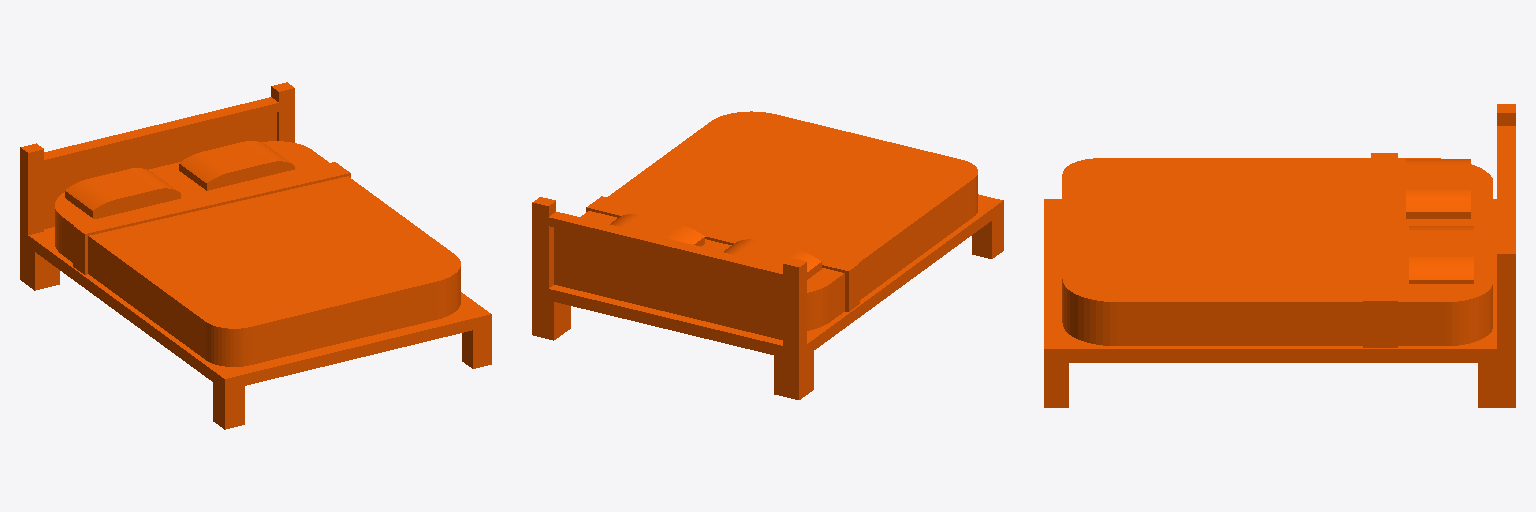
URDF robot description (QueenBed_37669b95ea1493e015db41c14447f):
<?xml version="1.0" ?>
<robot name="QueenBed_37669b95ea1493e015db41c14447f">
   <material name="obj_color">
      <color rgba="1.0 0.423529411765 0.0392156862745 1.0"/>
   </material>
   <link name="top">
      <inertial>
         <origin rpy="0.001823593337753178 0.002953681058438077 0.00426146181637602" xyz="-0.0001820774659071704 -0.01090340267625533 -0.006259756587117966"/>
         <mass value="1.120664550507615"/>
         <inertia ixx="0.002953677074162624" ixy="-2.310849362386972e-06" ixz="6.455327815750795e-07" iyy="0.00183783520048321" iyz="-0.0001857580334841796" izz="0.004247223937921441"/>
      </inertial>
      <visual>
         <origin rpy="0 0 0" xyz="0 0 0"/>
         <geometry>
            <mesh filename="top_watertight_tiny.stl" scale="1 1 1"/>
         </geometry>
         <material name="obj_color"/>
      </visual>
      <collision>
         <origin rpy="0 0 0" xyz="0 0 0"/>
         <geometry>
            <mesh filename="top_watertight_tiny.obj" scale="1 1 1"/>
         </geometry>
      </collision>
   </link>
   <link name="bottom">
      <inertial>
         <origin rpy="1.633333333199431e-08 1.633333333199431e-08 1.633333333362855e-08" xyz="0.3464080000000008 0.3464080000000008 0.3464080000000008"/>
         <mass value="0.0009800000000000017"/>
         <inertia ixx="1.633333333253906e-08" ixy="5.447480642029219e-19" ixz="5.447480642029219e-19" iyy="1.633333333253906e-08" iyz="5.447480642029219e-19" izz="1.633333333253906e-08"/>
      </inertial>
      <visual>
         <origin rpy="0 0 0" xyz="0 0 0"/>
         <geometry>
            <mesh filename="bottom_watertight_tiny.stl" scale="1 1 1"/>
         </geometry>
         <material name="obj_color"/>
      </visual>
   </link>
   <joint name="rotation" type="revolute">
      <origin xyz="0 0 0"/>
      <axis xyz="0 0 -1"/>
      <parent link="bottom"/>
      <child link="top"/>
      <dynamics damping="1.0" friction="1.0"/>
      <limit effort="0.1" velocity="0.1" lower="0" upper="0.001"/>
   </joint>
</robot>

--- What the picture shows (computed from the rendered views, not written in the file) ---
3 views of the same robot in one strip: view 1: azimuth 30°, elevation 25°; view 2: azimuth 150°, elevation 25°; view 3: azimuth 270°, elevation 25° (orthographic).
Robot: QueenBed_37669b95ea1493e015db41c14447f — 2 links, 1 joints (1 revolute); root link bottom; default pose: every joint at zero.
Visible links, largest first — view 1: top; view 2: top; view 3: top.
Boxes of the visible links, x1,y1,x2,y2 form: top: [20, 82, 491, 429]; top: [532, 111, 1003, 399]; top: [1044, 104, 1515, 407].
Size in the robot's own frame: 0.13 by 0.1723 by 0.0619 metres.
1 mesh visuals loaded from 2 distinct referenced files (1 binary STL); not drawn: 1 (reference not matched to a file when rendering).
